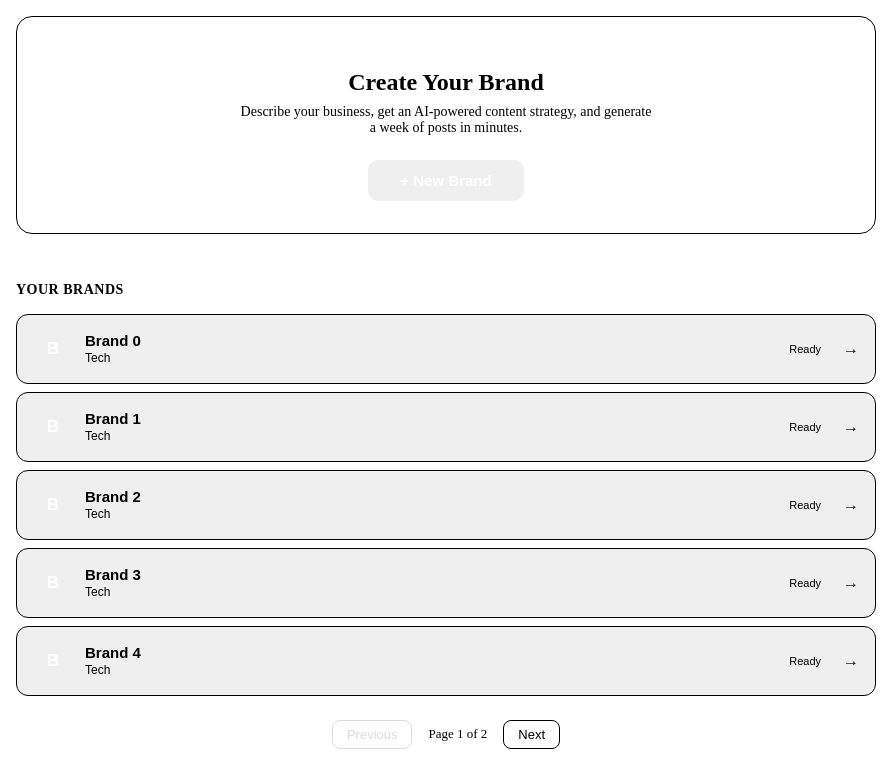
Scenario: BrandsPage › navigates to next page when Next is clicked
The image size is (893, 760).
Expected: the text "Page 1 of 2" is shown, [428,726,487,742]
Click the button "Next" at (532, 734), box [503,720,560,749]
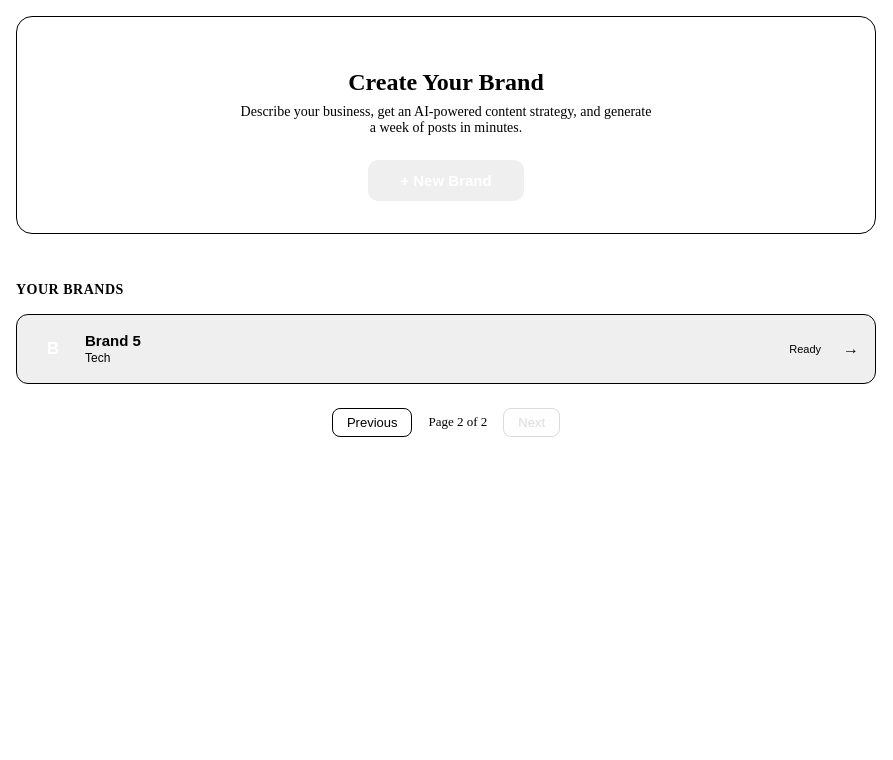
Result: the text "Page 2 of 2" is shown at [428,414,487,430]
